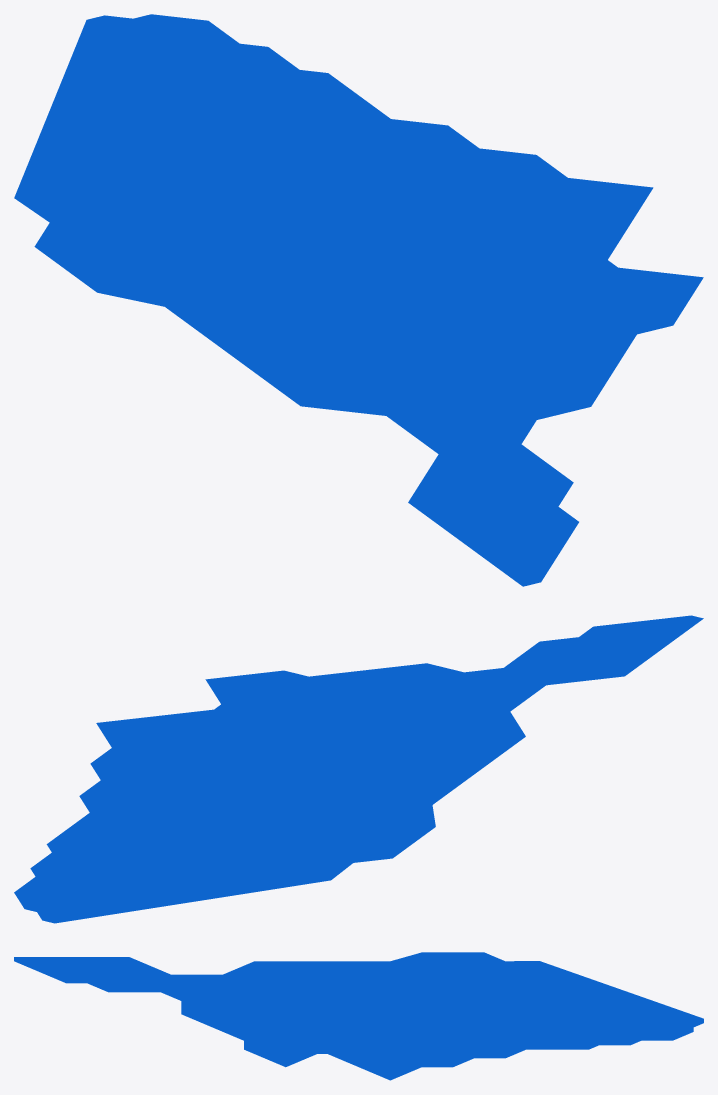
File: SM_MainLevel_Ground_2.fbx
3 renders of one model, top to bottom at view 1: azimuth 30°, elevation 25°; view 2: azimuth 150°, elevation 25°; view 3: azimuth 270°, elevation 25°, orthographic. The views are drawn at different scales.
Parts seen in each view (by area): view 1: SM_MainLevel_Ground_2; view 2: SM_MainLevel_Ground_2; view 3: SM_MainLevel_Ground_2.
Part boxes in pixels (box(x1,y1,x2,y2)): SM_MainLevel_Ground_2: box(14, 14, 703, 586); SM_MainLevel_Ground_2: box(14, 615, 703, 923); SM_MainLevel_Ground_2: box(14, 952, 703, 1080).
Bounding box in the file's own units: 29 × 8.58e-07 × 66.
